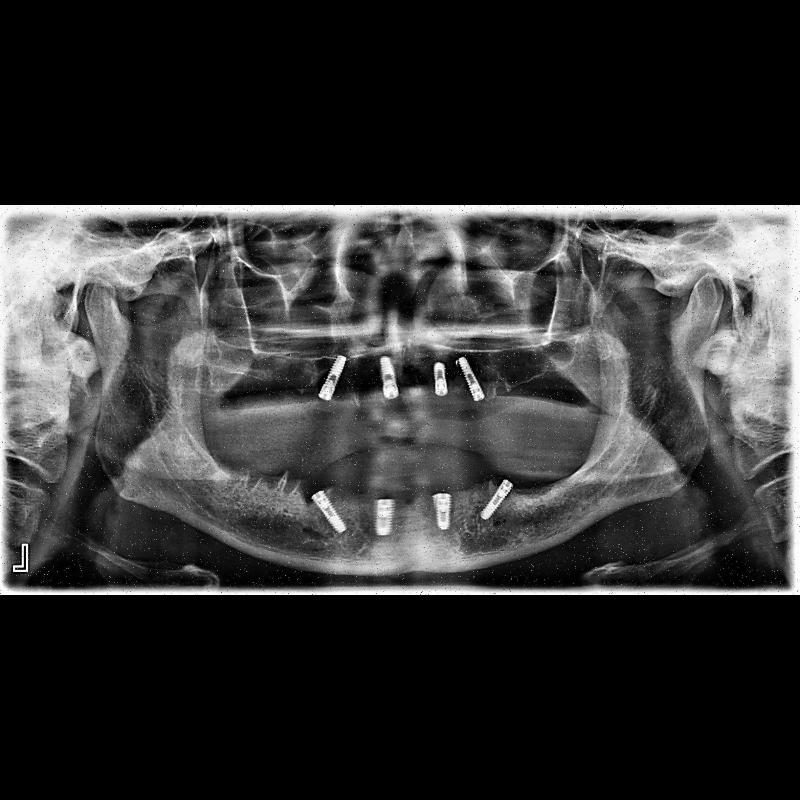osstem: (307, 487, 347, 541), (476, 473, 512, 528), (454, 355, 494, 403), (318, 353, 348, 403), (376, 353, 402, 406), (433, 492, 457, 532), (426, 358, 448, 400)
